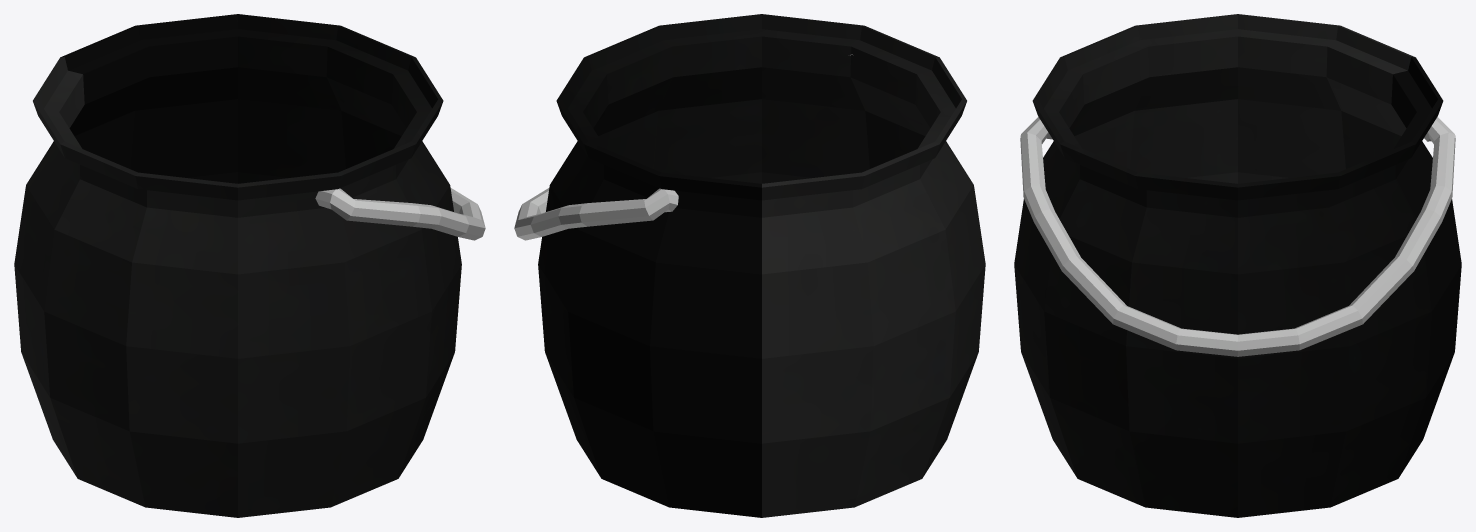
The model's file is Cauldron_1.fbx.
3 renders of one model, left to right at view 1: azimuth 30°, elevation 25°; view 2: azimuth 150°, elevation 25°; view 3: azimuth 270°, elevation 25°, orthographic.
Visible parts, largest first — view 1: Cauldron 1; view 2: Cauldron 1; view 3: Cauldron 1.
Part boxes in pixels (box(x1,y1,x2,y2)): Cauldron 1: box(14, 14, 485, 517); Cauldron 1: box(514, 14, 985, 517); Cauldron 1: box(1014, 14, 1461, 517).
Size of the model in its own units: 41.86 by 33.35 by 39.74.
